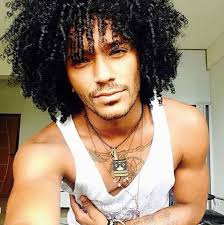black_male: (63, 17, 155, 126)
